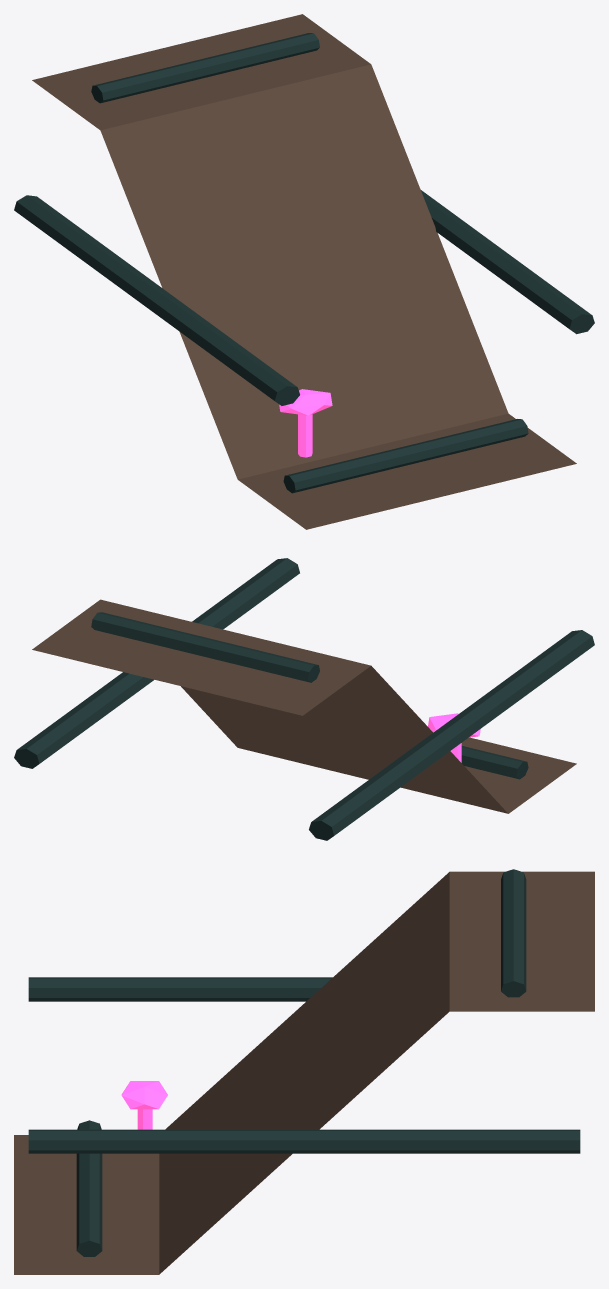
The model's file is df_v2_root_mud_ramp_narrow_a.glb.
3 renders of one model, top to bottom at view 1: azimuth 30°, elevation 25°; view 2: azimuth 150°, elevation 25°; view 3: azimuth 270°, elevation 25°, orthographic. The views are drawn at different scales.
Visible parts, largest first — view 1: mud_root_carved_ramp, left_root_lip, right_root_lip, cross_root_bottom, cross_root_top, ramp_glow_cap; view 2: mud_root_carved_ramp, left_root_lip, right_root_lip, cross_root_top, cross_root_bottom; view 3: mud_root_carved_ramp, right_root_lip, left_root_lip, cross_root_top, cross_root_bottom, ramp_glow_cap.
Part boxes in pixels (bbox=[...]): mud_root_carved_ramp: bbox=[32, 14, 576, 529]; left_root_lip: bbox=[14, 195, 299, 405]; right_root_lip: bbox=[421, 190, 594, 334]; cross_root_bottom: bbox=[283, 419, 528, 493]; cross_root_top: bbox=[91, 33, 319, 103]; ramp_glow_cap: bbox=[279, 389, 332, 415]; mud_root_carved_ramp: bbox=[32, 599, 576, 813]; left_root_lip: bbox=[309, 630, 594, 840]; right_root_lip: bbox=[14, 558, 299, 768]; cross_root_top: bbox=[91, 612, 319, 682]; cross_root_bottom: bbox=[461, 746, 528, 779]; mud_root_carved_ramp: bbox=[14, 871, 594, 1274]; right_root_lip: bbox=[28, 1129, 580, 1153]; left_root_lip: bbox=[28, 977, 332, 1001]; cross_root_top: bbox=[501, 869, 526, 997]; cross_root_bottom: bbox=[76, 1120, 102, 1256]; ramp_glow_cap: bbox=[121, 1081, 167, 1109].
Bounding box in the file's own units: 1.35 × 1.06 × 2.
